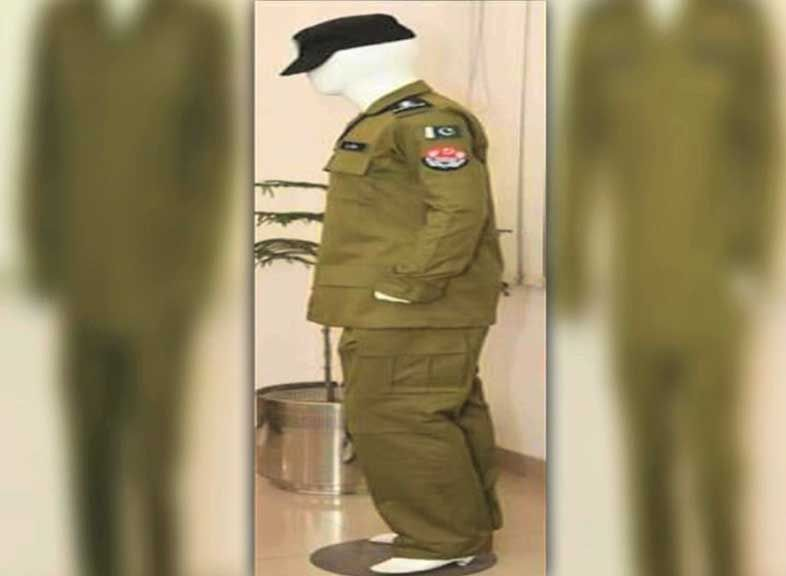uniform: (327, 103, 499, 535)
